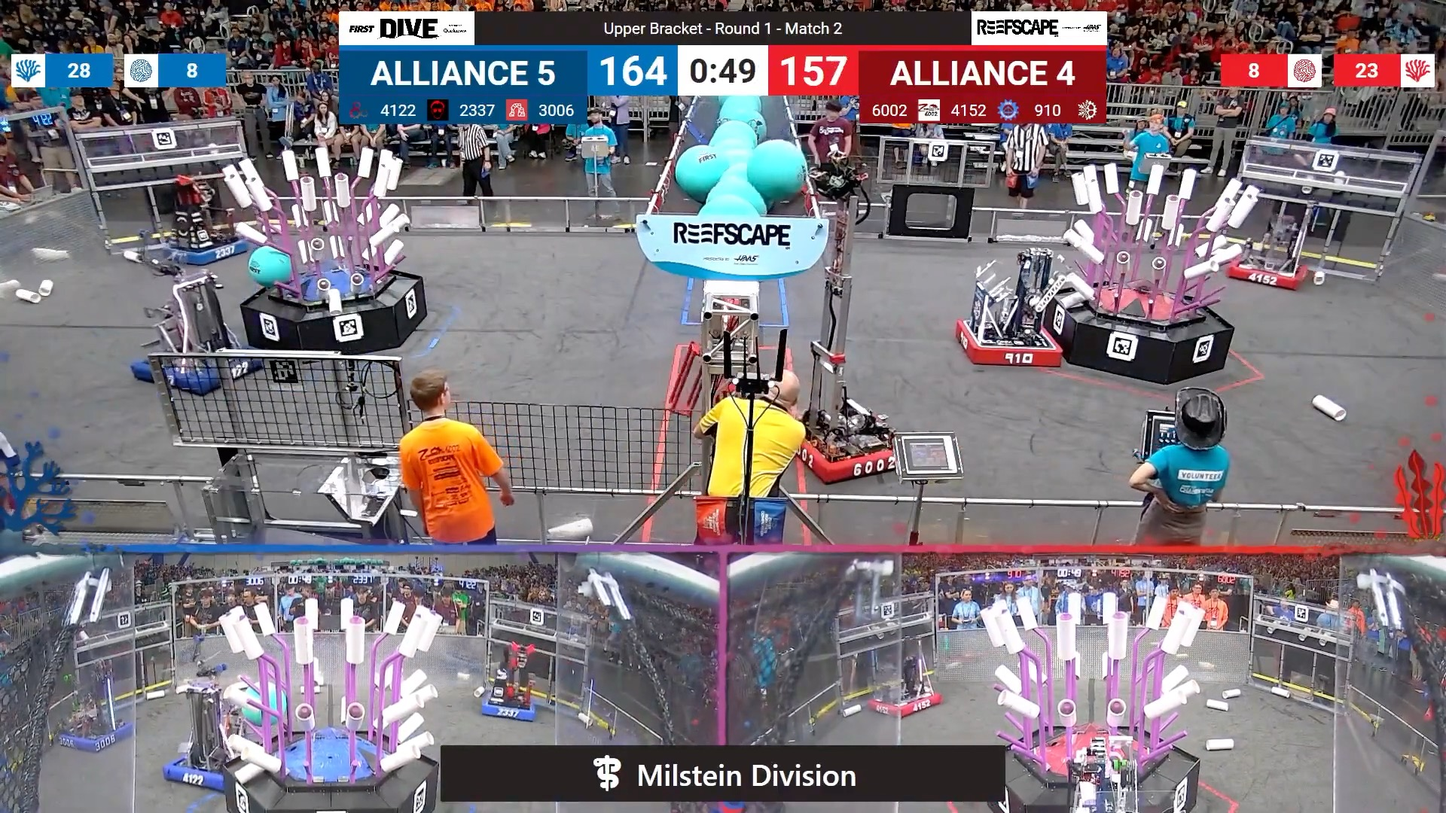bumpers: (795, 421, 907, 486), (124, 346, 268, 395), (950, 315, 1070, 373), (140, 233, 260, 273), (159, 744, 257, 790), (1216, 251, 1320, 294), (54, 720, 137, 760), (864, 685, 947, 719), (473, 689, 546, 726)
